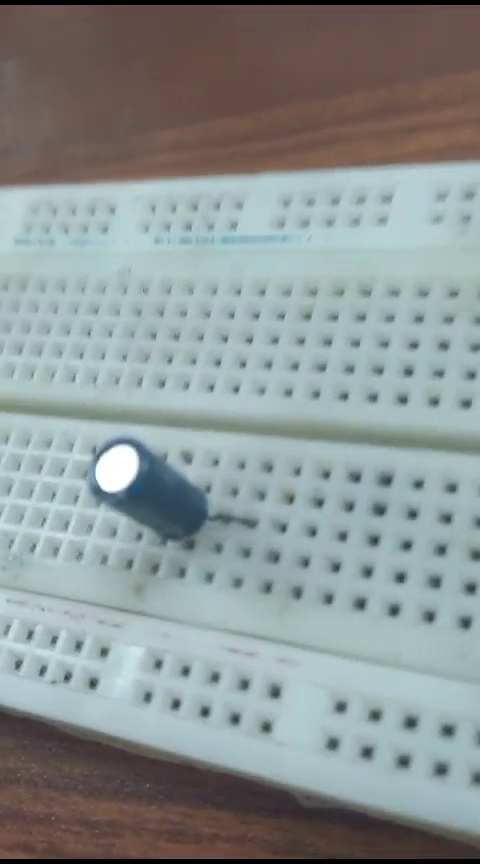capacitor: (94, 427, 262, 553)
